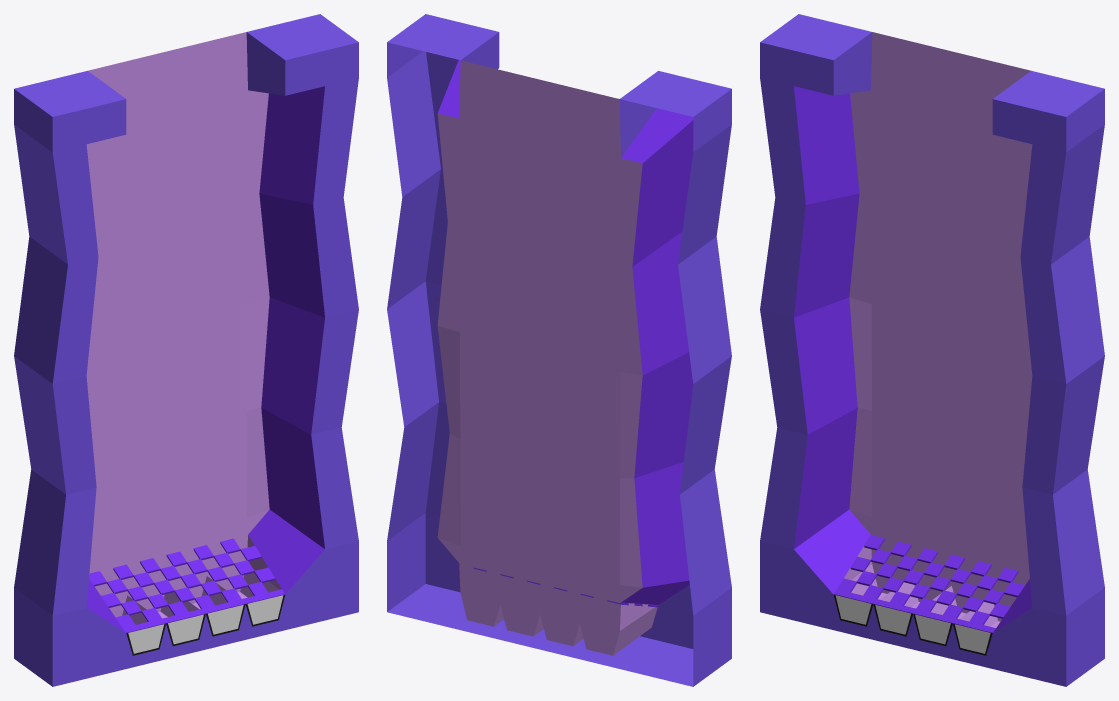
Rendered from background_purple.fbx.
The picture shows the model from 3 angles, left to right: view 1: azimuth 30°, elevation 25°; view 2: azimuth 150°, elevation 25°; view 3: azimuth 330°, elevation 25°; orthographic projection.
Parts seen in each view (by area): view 1: background.purple, Grille.purple.001; view 2: background.purple; view 3: background.purple, Grille.purple.001.
Boxes of the visible parts, x1,y1,x2,y2 form: background.purple: (14,14,358,686); Grille.purple.001: (89,538,284,633); background.purple: (387,14,731,686); background.purple: (760,14,1104,686); Grille.purple.001: (834,535,1024,633).
Size of the model in its own units: 8.99 by 15.99 by 1.98.
